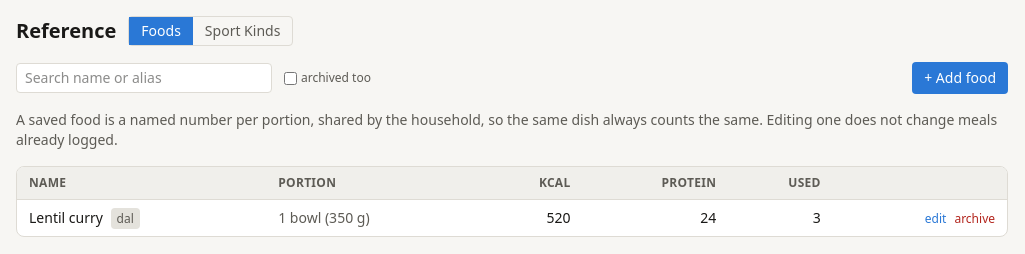
it: views › FoodsView shows the sport kinds behind its tab
Click the tab with test id "tab-sport" at {"x": 243, "y": 31}, box [193,17,292,45]
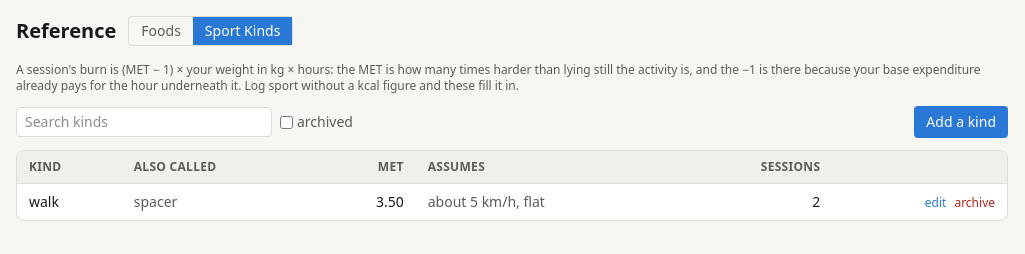
Now the element with test id "kinds-panel" shows "walk", box [29,192,59,211]
Now the element with test id "kinds-panel" shows "3.50", box [376,192,404,211]
